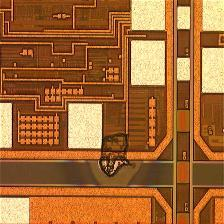PARTICLE: (86, 125, 147, 190)
